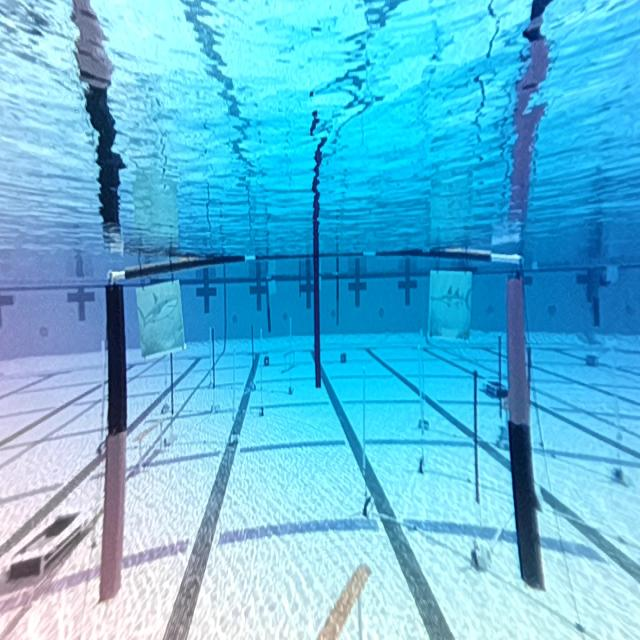pointed_nose: (430, 282, 476, 315)
round_nose: (135, 286, 187, 326)
